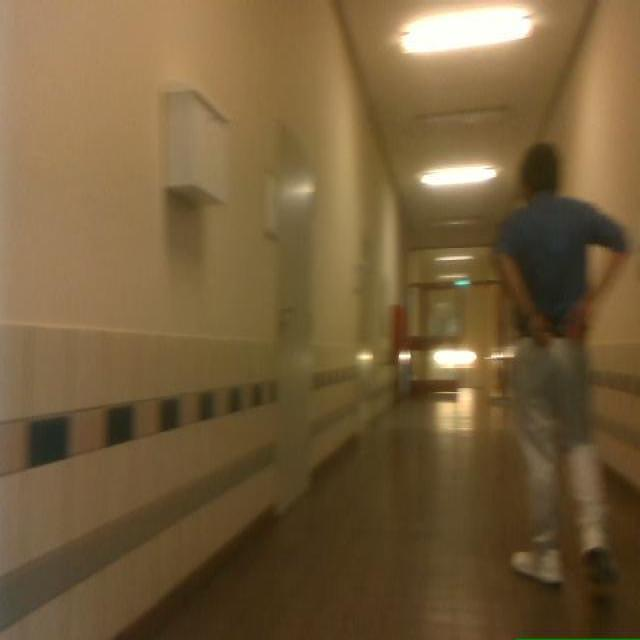humans: (496, 144, 628, 583)
objects: (165, 87, 228, 205)
